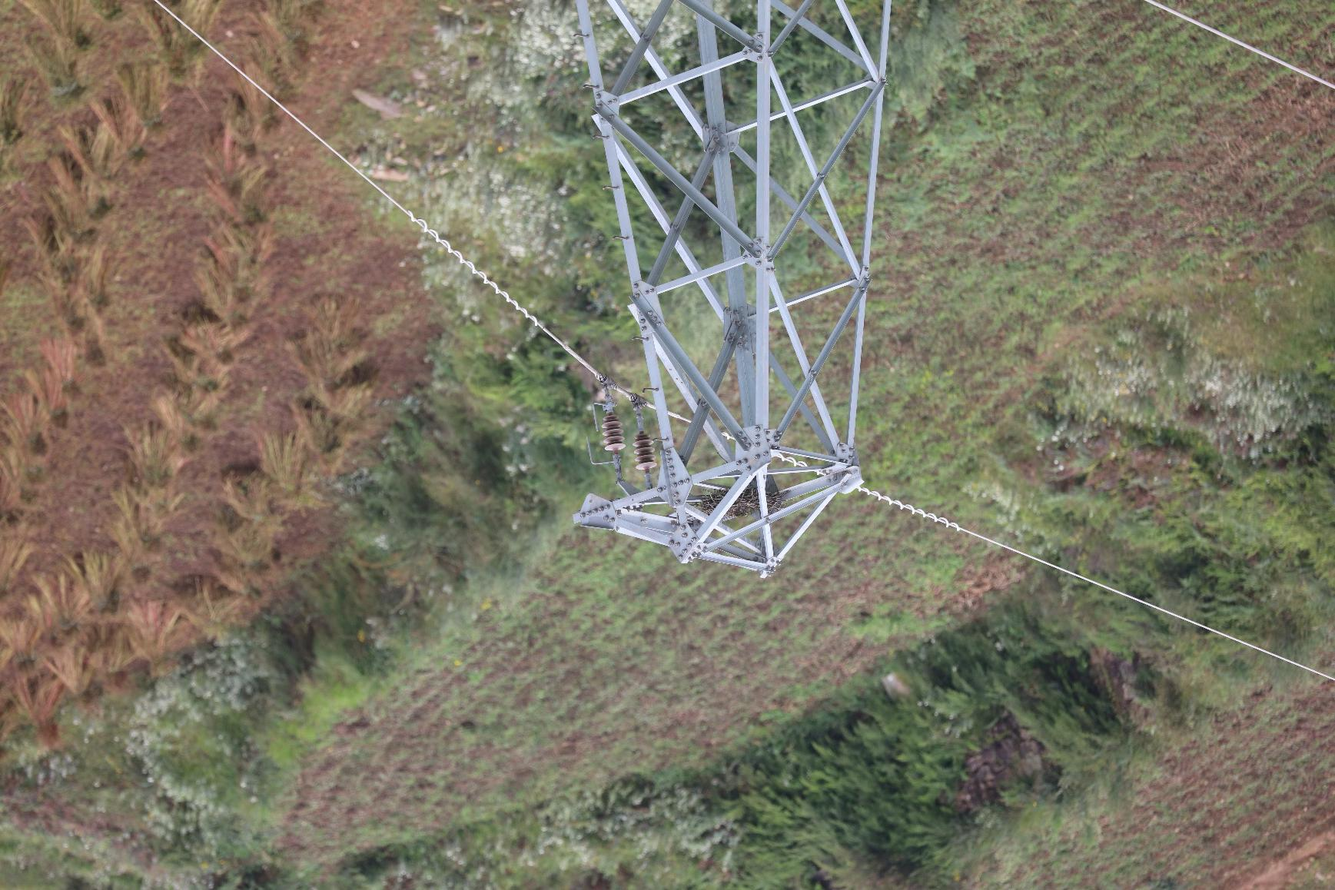nest: (697, 484, 782, 522)
